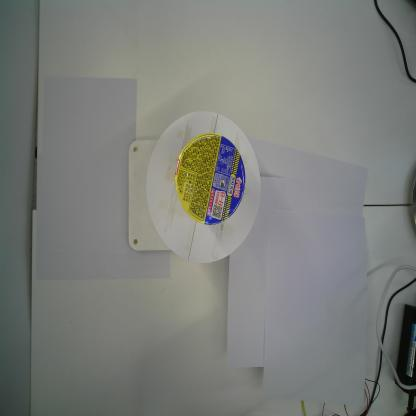Instant Noodles: (174, 131, 246, 226)
